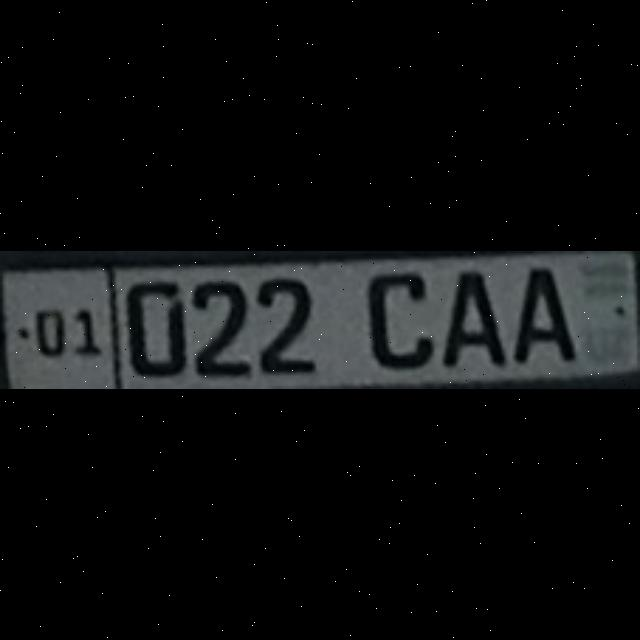0: (124, 276, 184, 376), (31, 305, 65, 353)
1: (68, 305, 99, 353)
2: (251, 274, 313, 372), (189, 276, 245, 376)
A: (510, 262, 576, 362), (440, 268, 504, 366)
C: (364, 266, 432, 366)
